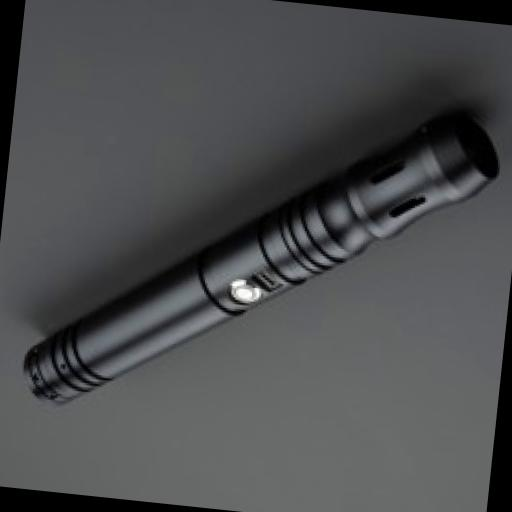lightsaber: (26, 79, 508, 451)
